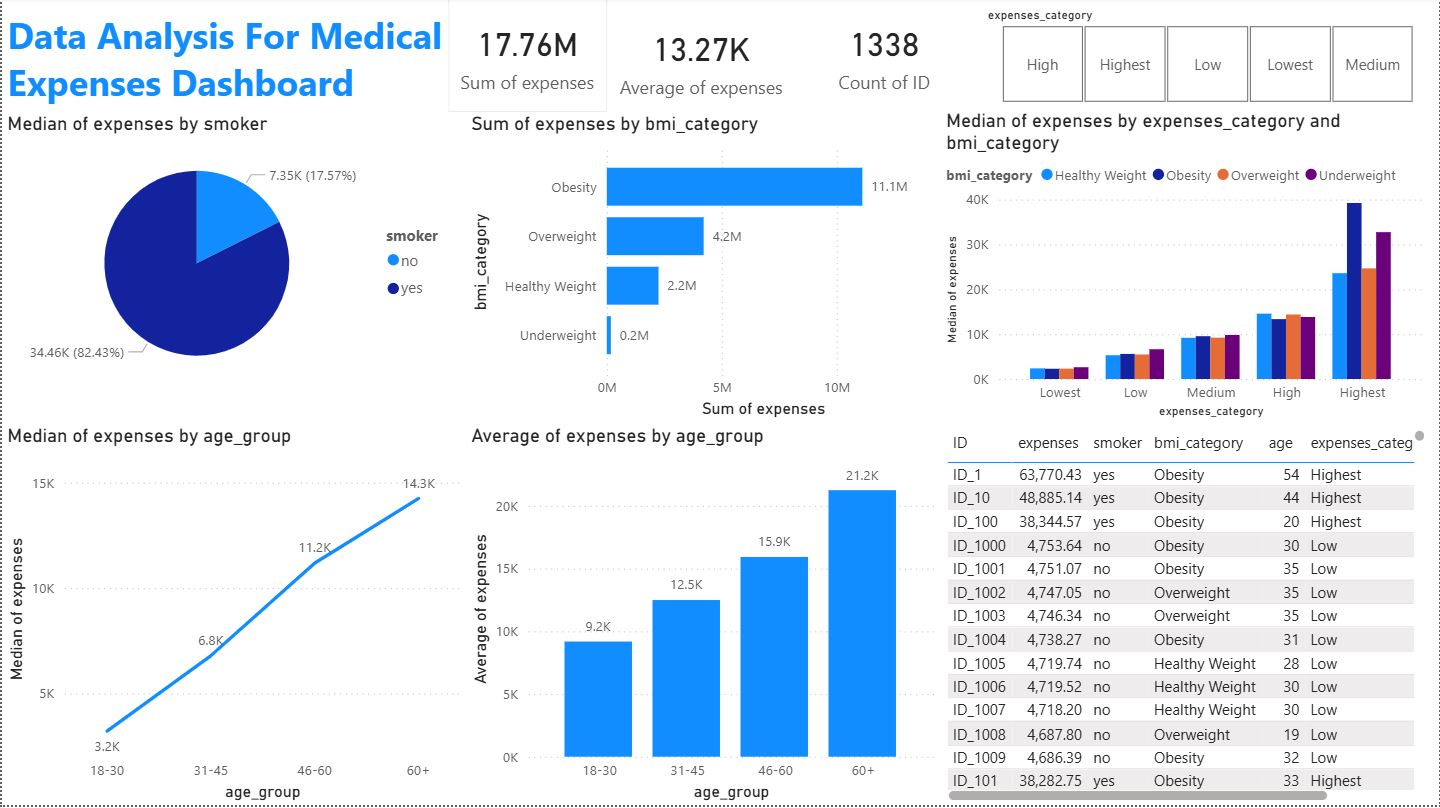

Layout of this report page (visuals, bound fields, positions):
{"tool":"powerbi","page":{"name":"Page 2","canvas":[1280,720],"ordinal":1},"visuals":[{"type":"clusteredBarChart","fields":{"Category":["Sheet1.bmi_category"],"Y":["Sum(Sheet1.expenses)"]},"box":[413.3,102.8,422.3,277.8],"z":0},{"type":"pieChart","fields":{"Series":["Sheet1.smoker"],"Y":["Median(Sheet1.expenses)"]},"box":[0,102.8,413.3,250.7],"z":1000},{"type":"lineChart","fields":{"Category":["Sheet1.age_group"],"Y":["Median(Sheet1.expenses)"]},"box":[0,380.5,413.3,339.9],"z":2000},{"type":"slicer","fields":{"Values":["Sheet1.expenses_category"]},"box":[864.9,4.5,415.5,96],"z":3000},{"type":"card","fields":{"Values":["Sum(Sheet1.expenses)"]},"box":[397.5,0,141.1,102.8],"z":4000},{"type":"textbox","box":[0,6.8,397.5,96],"z":5000},{"type":"card","fields":{"Values":["Avg(Sheet1.expenses)"]},"box":[538.6,7.9,168.2,96],"z":6000},{"type":"card","fields":{"Values":["CountNonNull(Sheet1.ID)"]},"box":[706.8,2.3,158.1,98.2],"z":7000},{"type":"clusteredColumnChart","fields":{"Y":["Median(Sheet1.expenses)"],"Category":["Sheet1.expenses_category"],"Series":["Sheet1.bmi_category"]},"box":[835.6,100.5,434.7,280],"z":8000},{"type":"clusteredColumnChart","fields":{"Y":["Avg(Sheet1.expenses)"],"Category":["Sheet1.age_group"]},"box":[413.3,380.5,422.3,339.9],"z":9000},{"type":"actionButton","box":[952.9,708,100.2,12.2],"z":10000},{"type":"tableEx","fields":{"Values":["Sheet1.ID","Sheet1.expenses","Sheet1.smoker","Sheet1.bmi_category","Sheet1.age","Sheet1.expenses_category","Sheet1.region"]},"box":[835.6,380.5,435.9,339.9],"z":11000}]}

Visuals, with their boxes in screenshot pixels (x1, y1, x2, y2), scaled from the page's 1280x720 canvas onto the 1440x808 screenshot:
clusteredBarChart - Sheet1.bmi_category x Sum(Sheet1.expenses): rect(465, 115, 940, 427)
pieChart - Sheet1.smoker x Median(Sheet1.expenses): rect(0, 115, 465, 397)
lineChart - Sheet1.age_group x Median(Sheet1.expenses): rect(0, 427, 465, 807)
slicer - Sheet1.expenses_category: rect(973, 5, 1439, 113)
card - Sum(Sheet1.expenses): rect(447, 0, 606, 115)
textbox: rect(0, 8, 447, 115)
card - Avg(Sheet1.expenses): rect(606, 9, 795, 117)
card - CountNonNull(Sheet1.ID): rect(795, 3, 973, 113)
clusteredColumnChart - Median(Sheet1.expenses) x Sheet1.expenses_category: rect(940, 113, 1429, 427)
clusteredColumnChart - Avg(Sheet1.expenses) x Sheet1.age_group: rect(465, 427, 940, 807)
actionButton: rect(1072, 795, 1185, 807)
tableEx - Sheet1.ID x Sheet1.expenses: rect(940, 427, 1430, 807)
